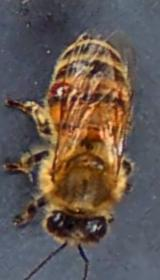varroa_mite: (43, 74, 76, 103)
